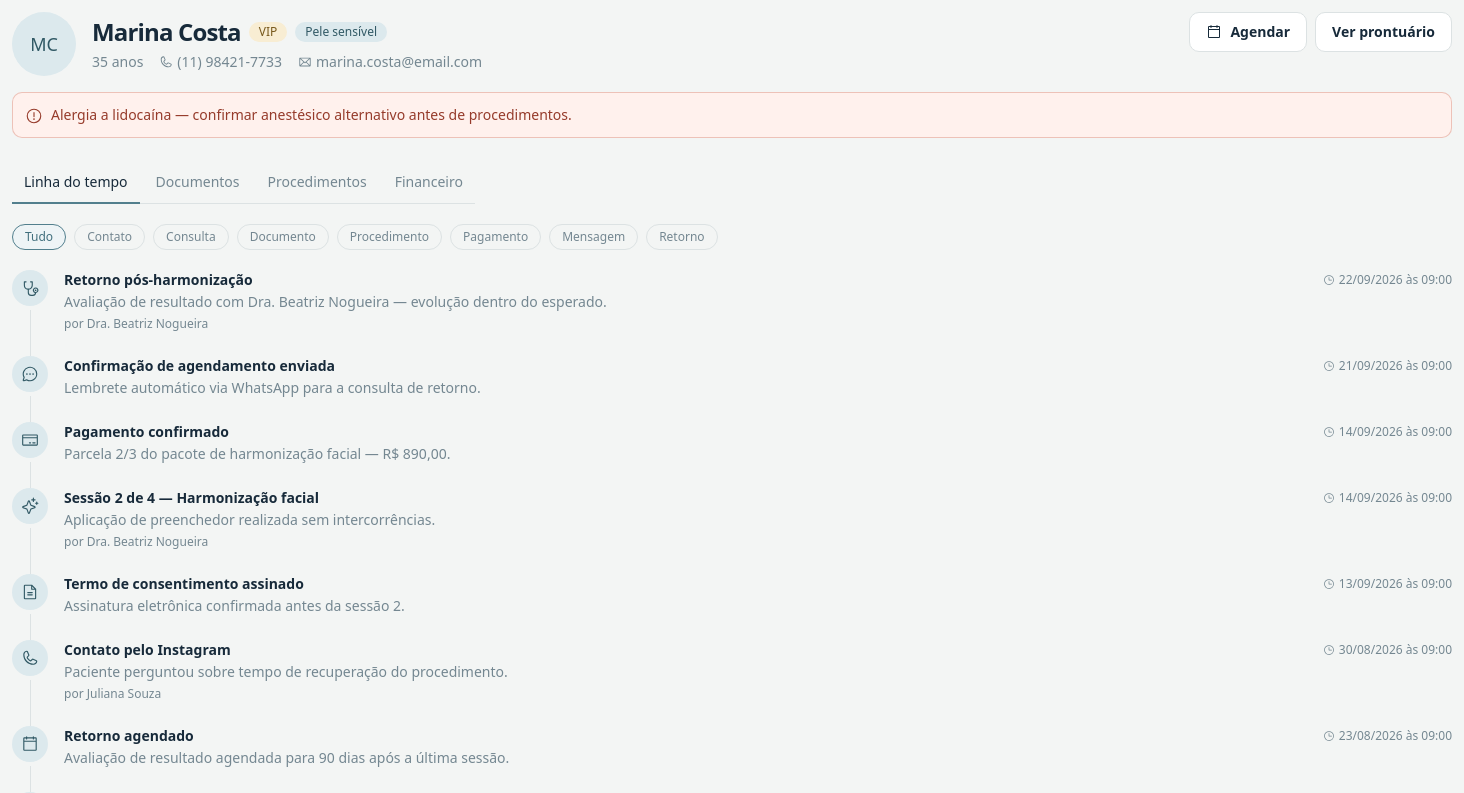
PatientProfilePage › shows financial data for a role with finance.read
This screenshot has width=1464, height=793.
Click the tab "Financeiro": coordinates (429, 183) [383,162,475,204]
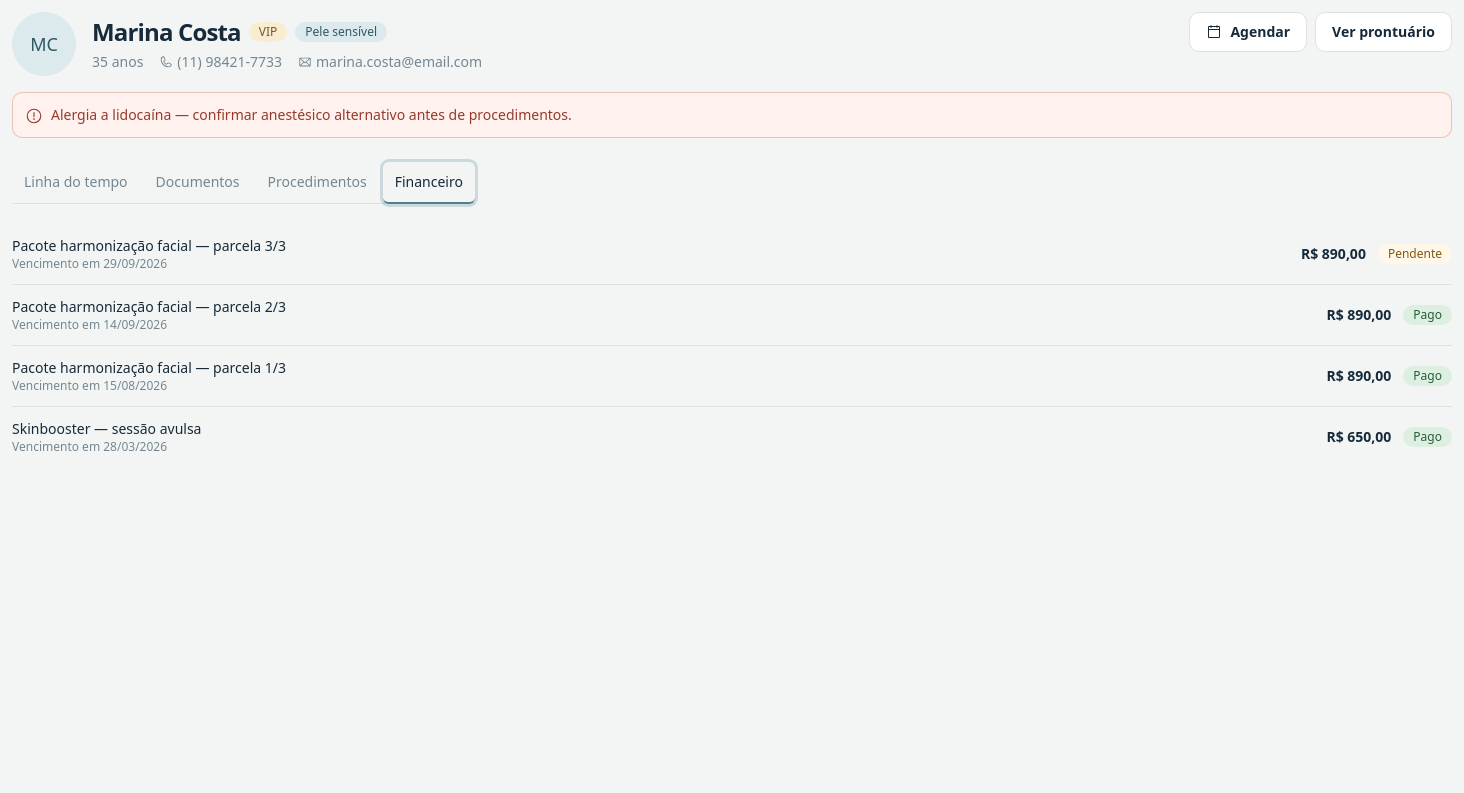
Check: the text "Pacote harmonização facial — parcela 3/3" is shown, box [12,236,286,256]
